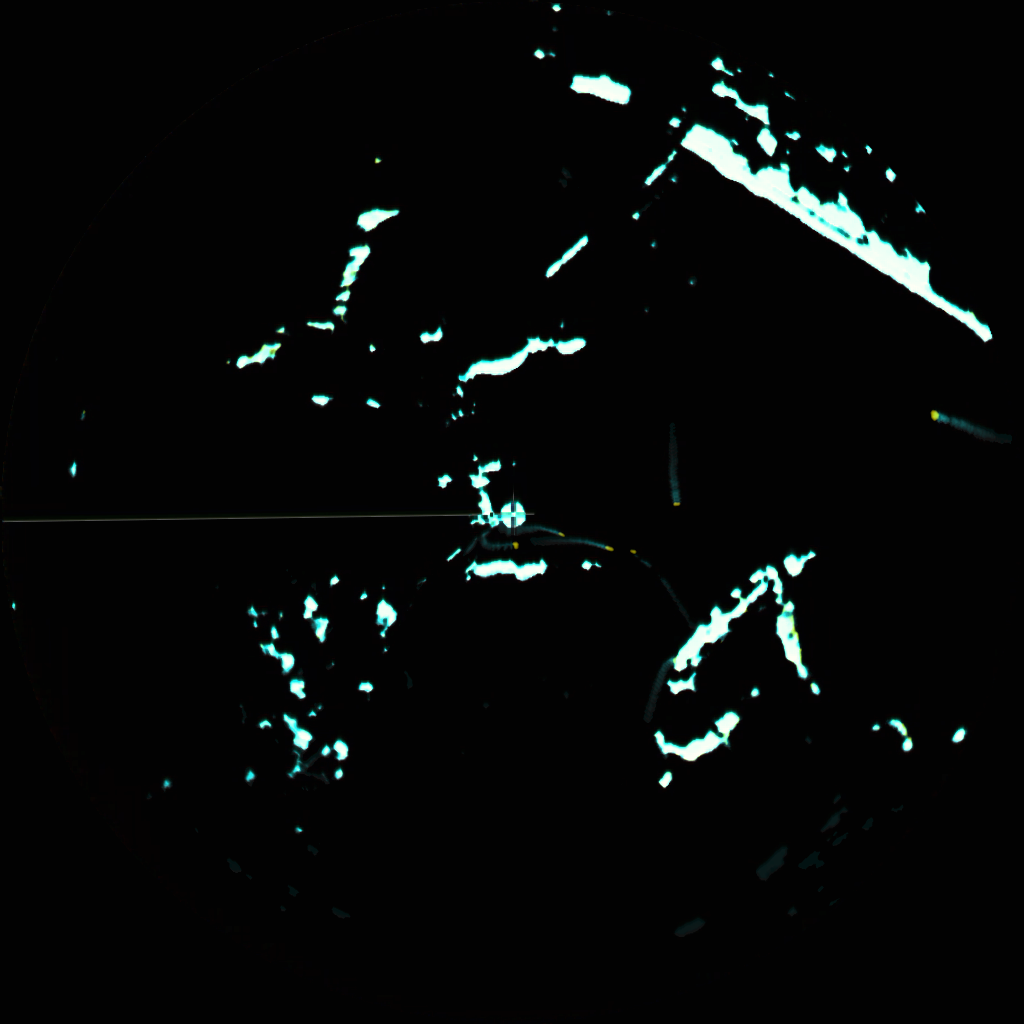B: (928, 407, 977, 433), (668, 453, 684, 508), (528, 519, 568, 541), (479, 534, 521, 554), (577, 534, 614, 554), (629, 546, 655, 570)
